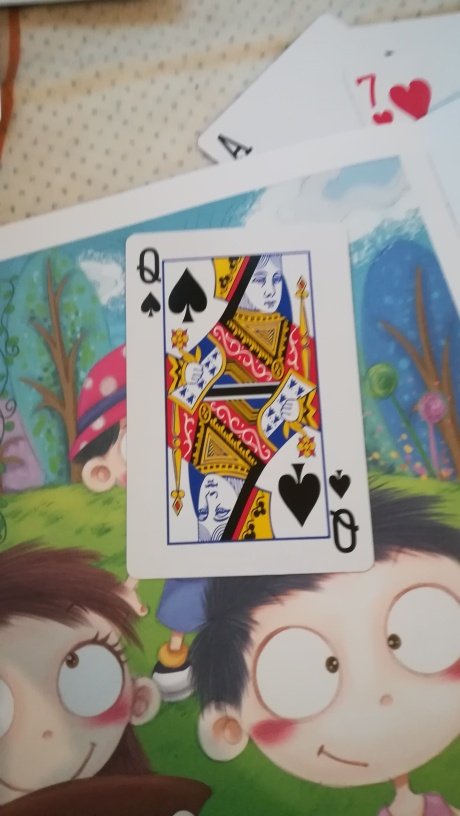ht q: (119, 224, 380, 586)
